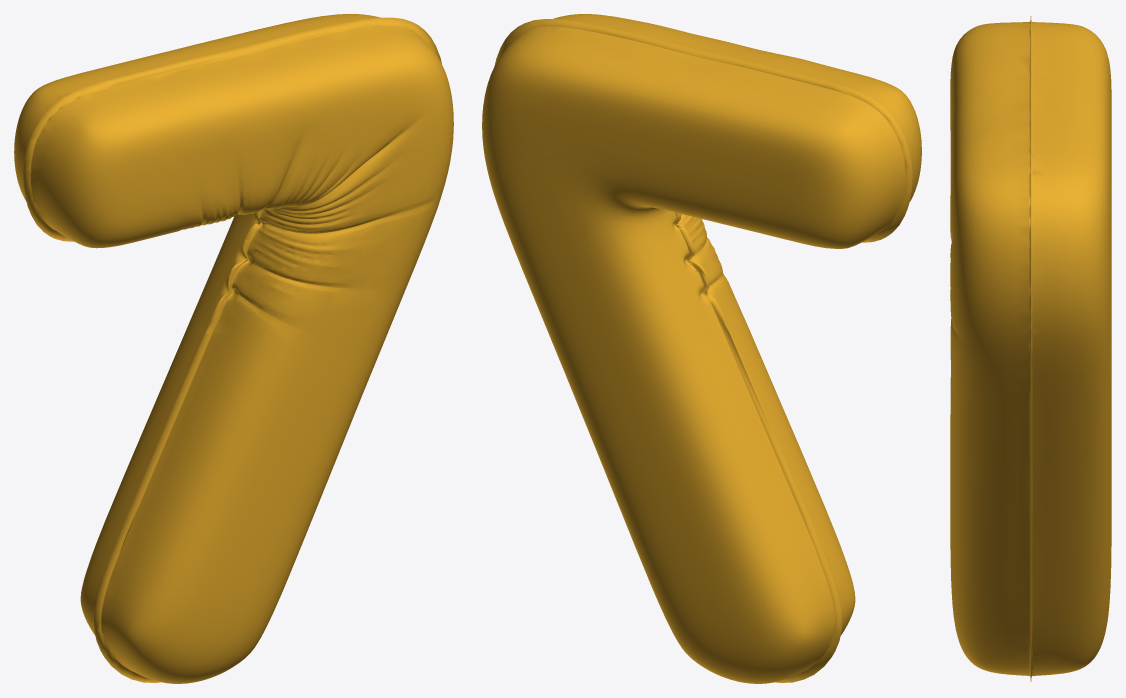
Rendered from zahlen-gold-nr7-gruppe.glb.
3 renders of one model, left to right at view 1: azimuth 30°, elevation 25°; view 2: azimuth 150°, elevation 25°; view 3: azimuth 270°, elevation 25°, orthographic.
Parts seen in each view (by area): view 1: nr7; view 2: nr7; view 3: nr7.
Part boxes in pixels (x1,y1,x2,y2): nr7: (14,14,453,683); nr7: (482,14,921,683); nr7: (950,16,1111,681).
Bounding box in the file's own units: 0.4514 × 0.6296 × 0.1499.
